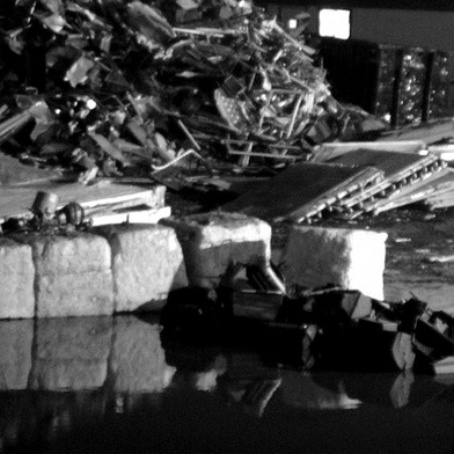trash: (1, 1, 390, 207)
